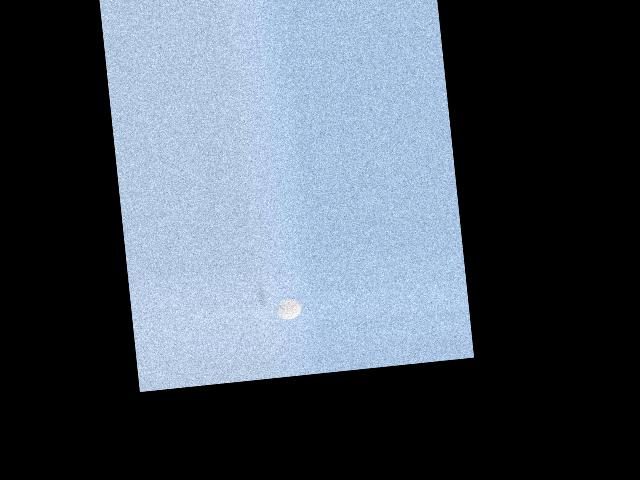egg: (274, 297, 302, 321)
